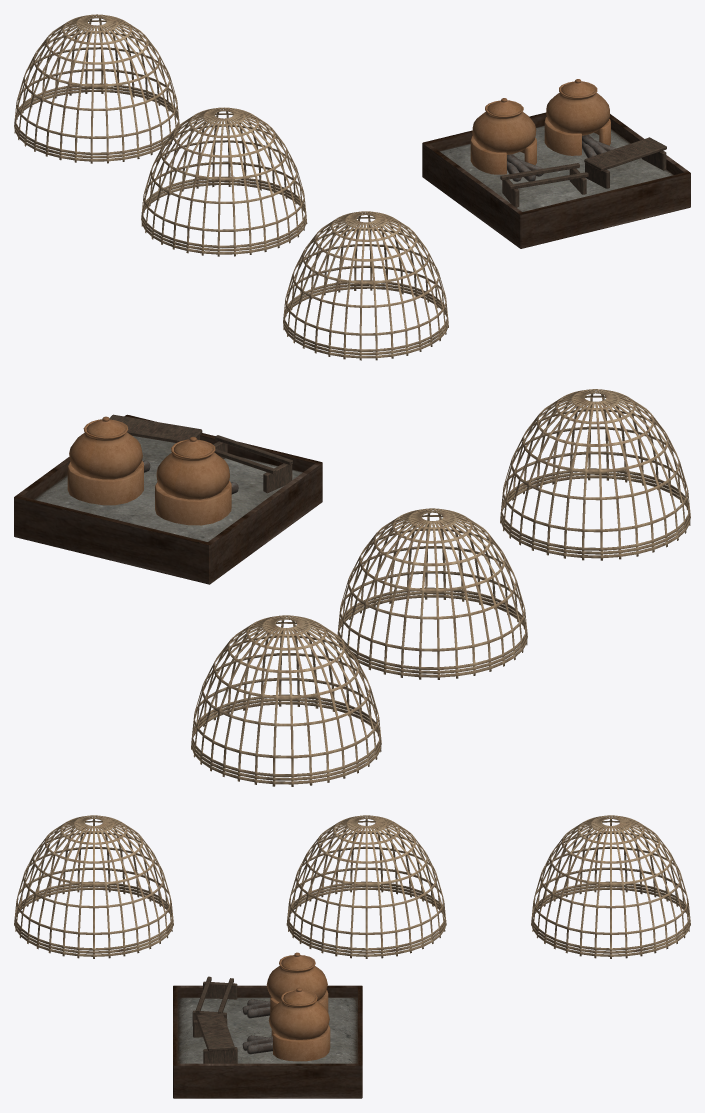
File: house4.glb
3 renders of one model, top to bottom at view 1: azimuth 30°, elevation 25°; view 2: azimuth 150°, elevation 25°; view 3: azimuth 270°, elevation 25°, orthographic. The views are drawn at different scales.
Parts seen in each view (by area): view 1: Object_24; view 2: Object_24; view 3: Object_24.
Boxes of the visible parts, box(x1,y1,x2,y2) form: Object_24: box(14, 14, 690, 360); Object_24: box(14, 389, 690, 786); Object_24: box(14, 815, 690, 1098).
Bounding box in the file's own units: 4.06 × 0.9646 × 5.64.
Materials: 3 (3 with a texture image).
